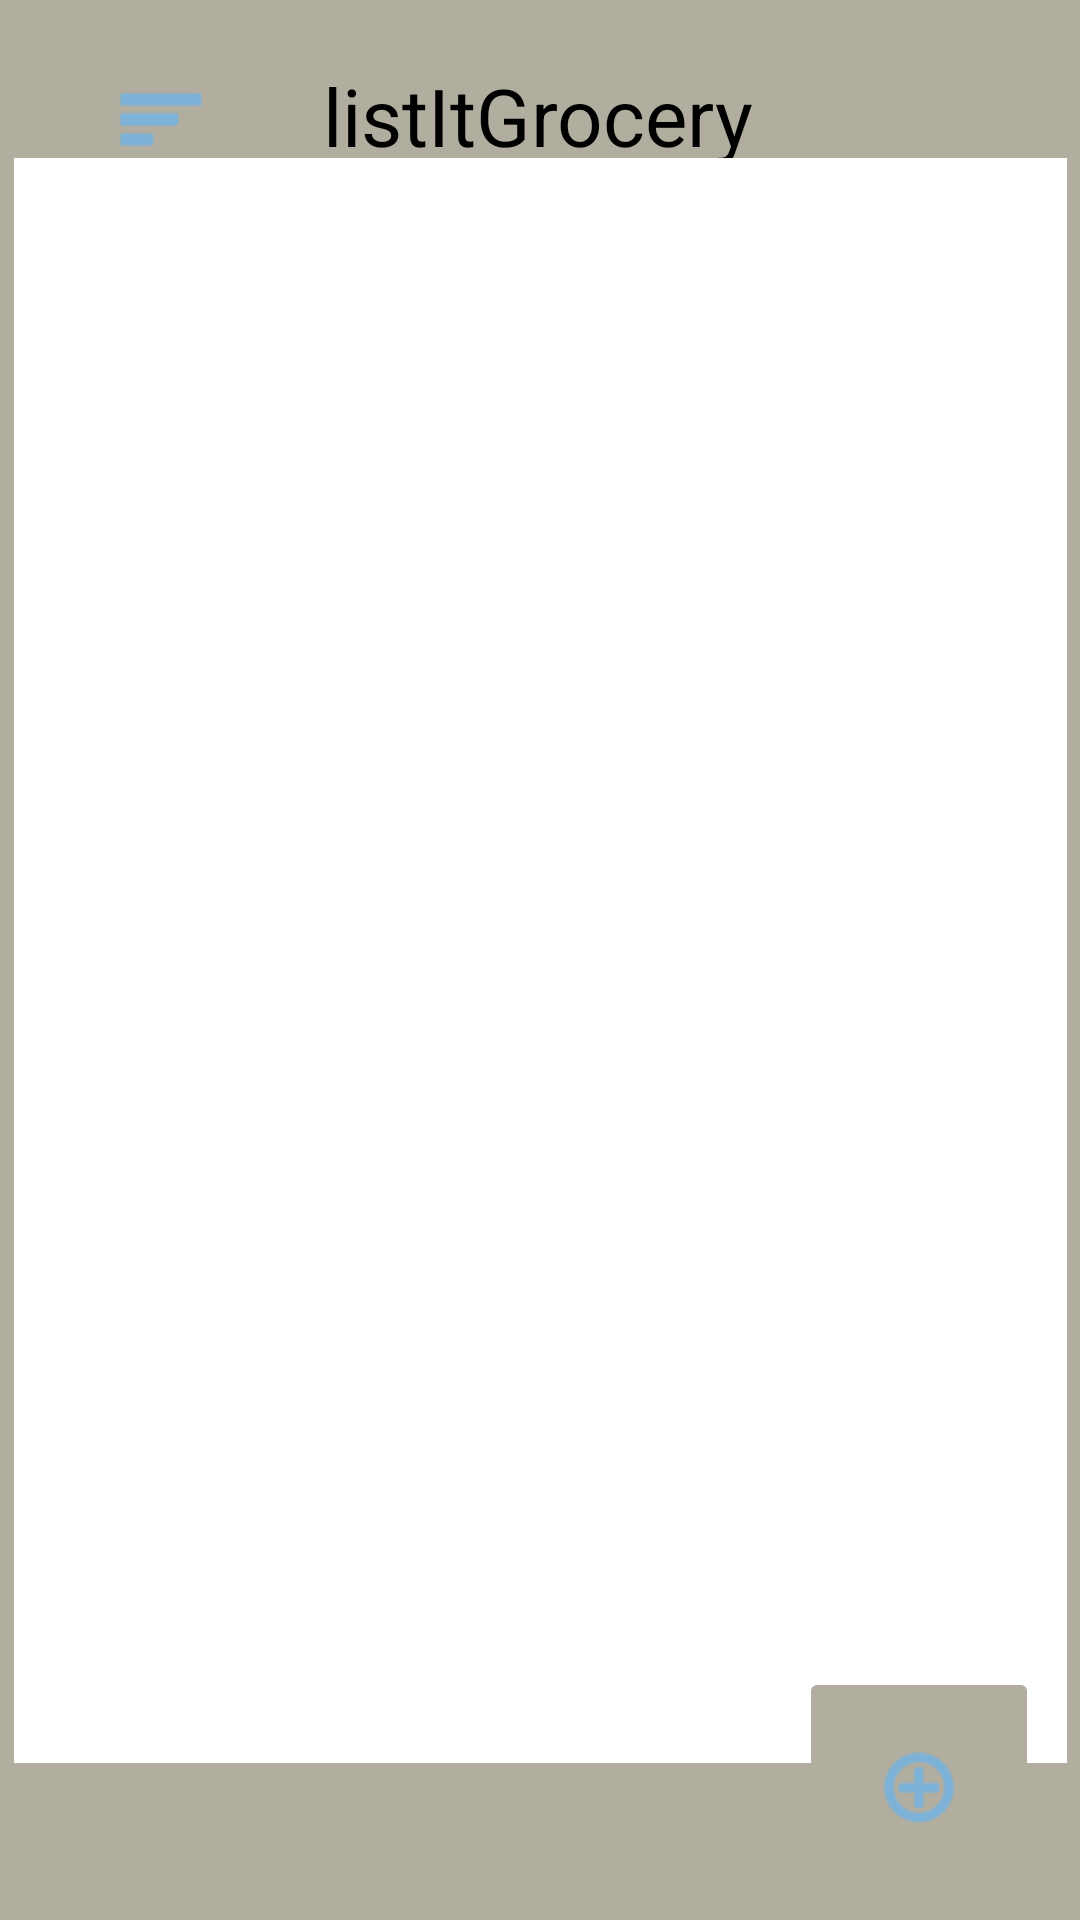

Where to tap for icons on this 1080*1920 app screen, as [x,y]:
add: [919,1787]
